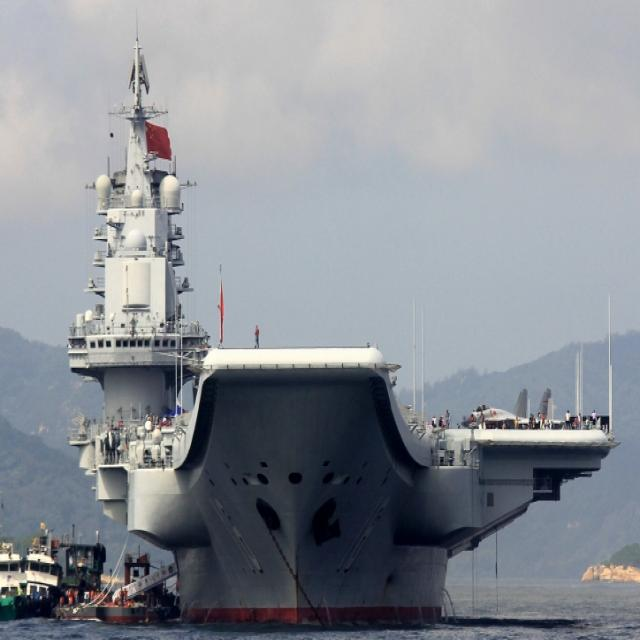Portanaves: (71, 1, 620, 632)
